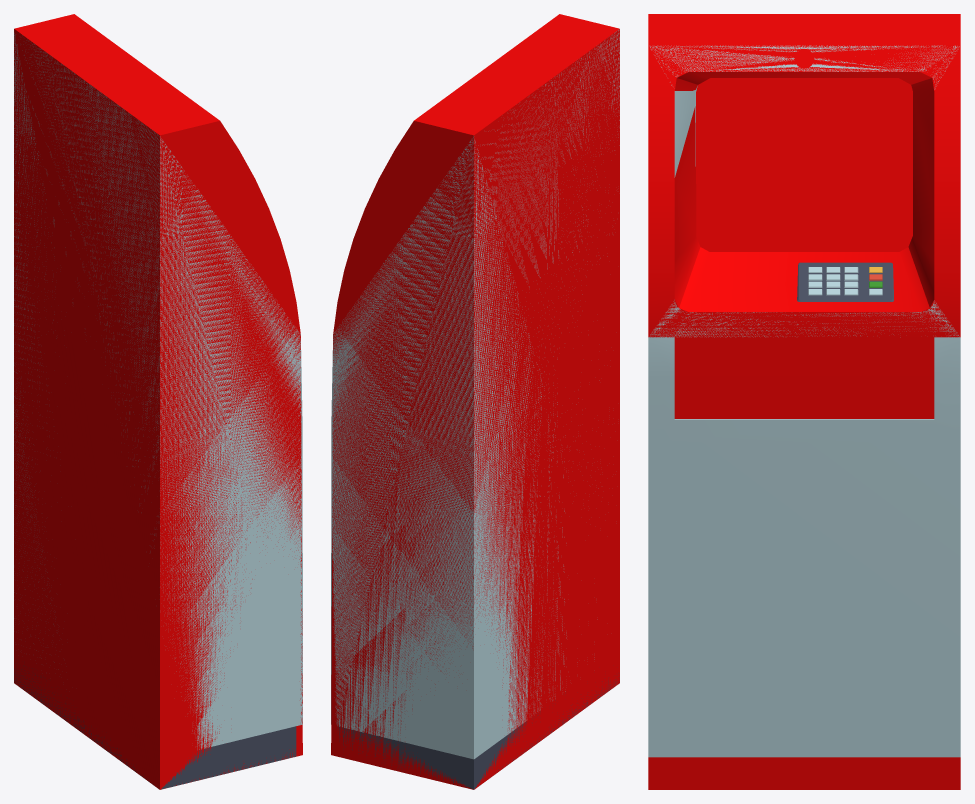
File: Airport_ATM.fbx
3 views of the same model, side by side, from view 1: azimuth 30°, elevation 25°; view 2: azimuth 150°, elevation 25°; view 3: azimuth 270°, elevation 25° (orthographic). The views are drawn at different scales.
Parts seen in each view (by area): view 1: Cube.548, 17.4.Model; view 2: Cube.548, 17.4.Model; view 3: Cube.548, 17.4.Model.
Boxes of the visible parts, x1=… form: Cube.548: x1=14, y1=14, x2=302, y2=789; 17.4.Model: x1=14, y1=32, x2=302, y2=789; Cube.548: x1=331, y1=14, x2=619, y2=789; 17.4.Model: x1=331, y1=29, x2=619, y2=789; Cube.548: x1=648, y1=14, x2=960, y2=789; 17.4.Model: x1=648, y1=45, x2=960, y2=757.
Bounding box in the file's own units: 40.03 × 175 × 70.75.
Materials: 2 (1 with a texture image).
